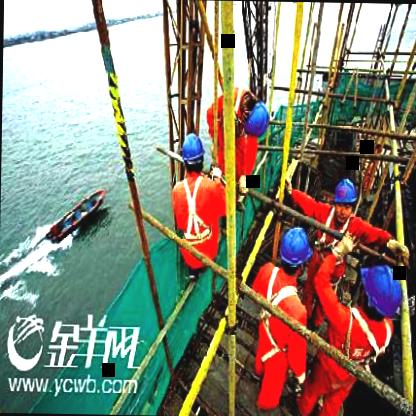helmet: (358, 254, 404, 327), (279, 227, 313, 273), (240, 94, 271, 142), (180, 128, 206, 182), (330, 176, 358, 223)
